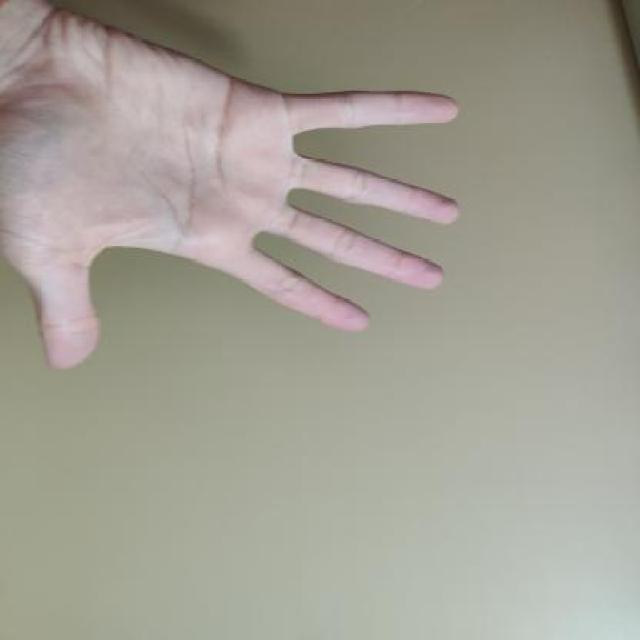bare_hand: (0, 0, 471, 383)
